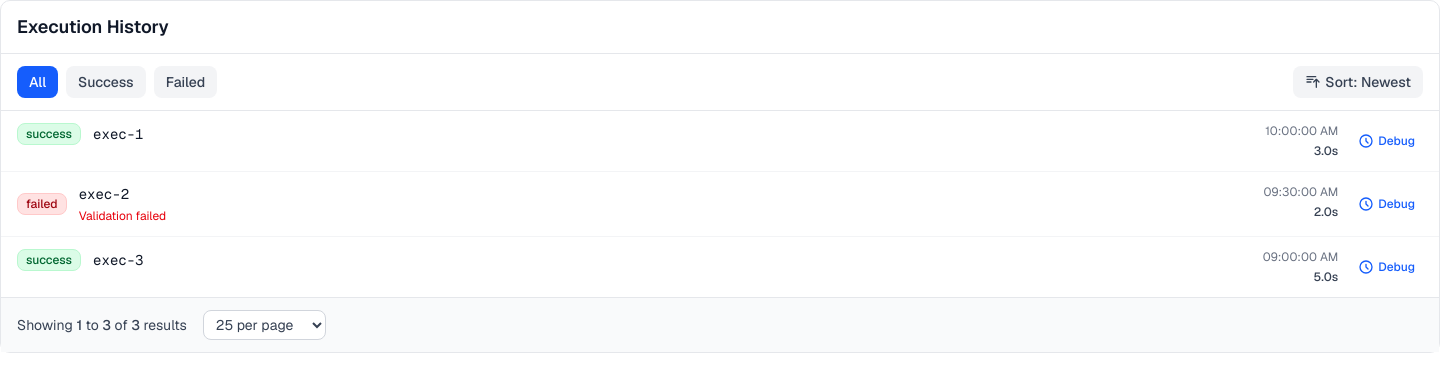
ExecutionHistoryPanel › Status Filtering › can switch back to showing all executions
The width and height of the screenshot is (1440, 370).
Click the button "Failed".
click(185, 82)  # box [154,66,217,98]
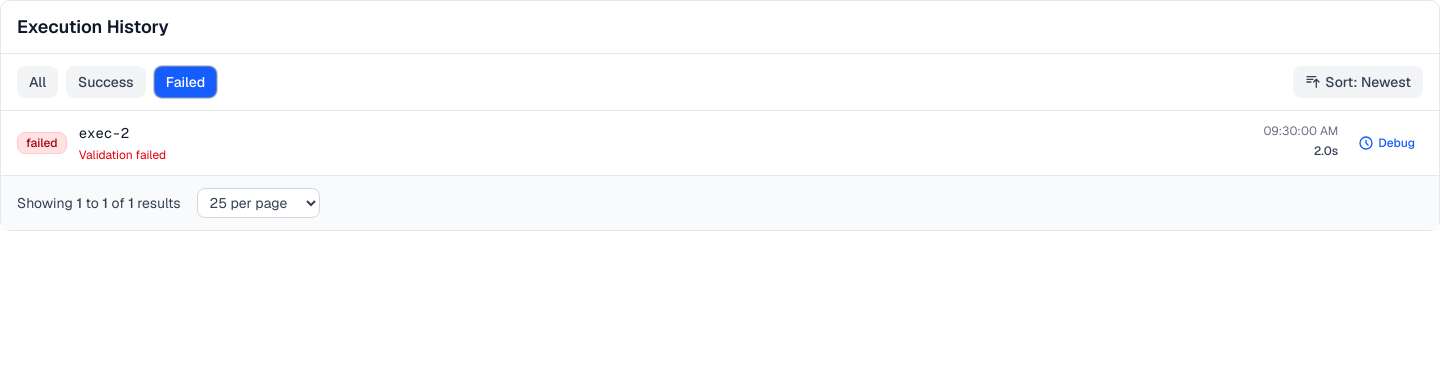
Now the button "exec-1" is gone
Click the button "All".
click(38, 82)  # box [17,66,58,98]
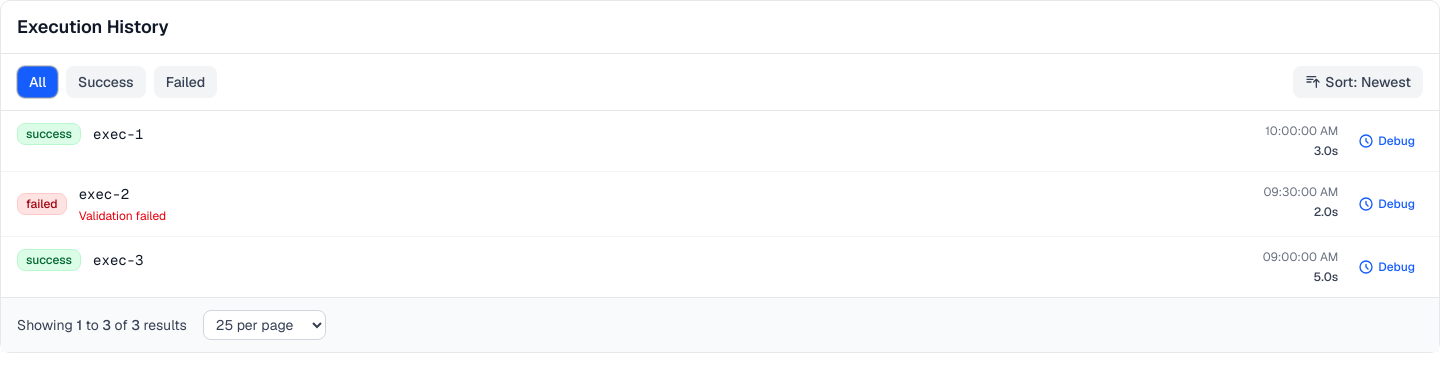
Expected: the text "exec-2" is shown, [79,185,129,203]
Now the text "exec-1" is shown, box [93,124,144,144]
Now the text "exec-3" is shown, box [93,250,144,270]
